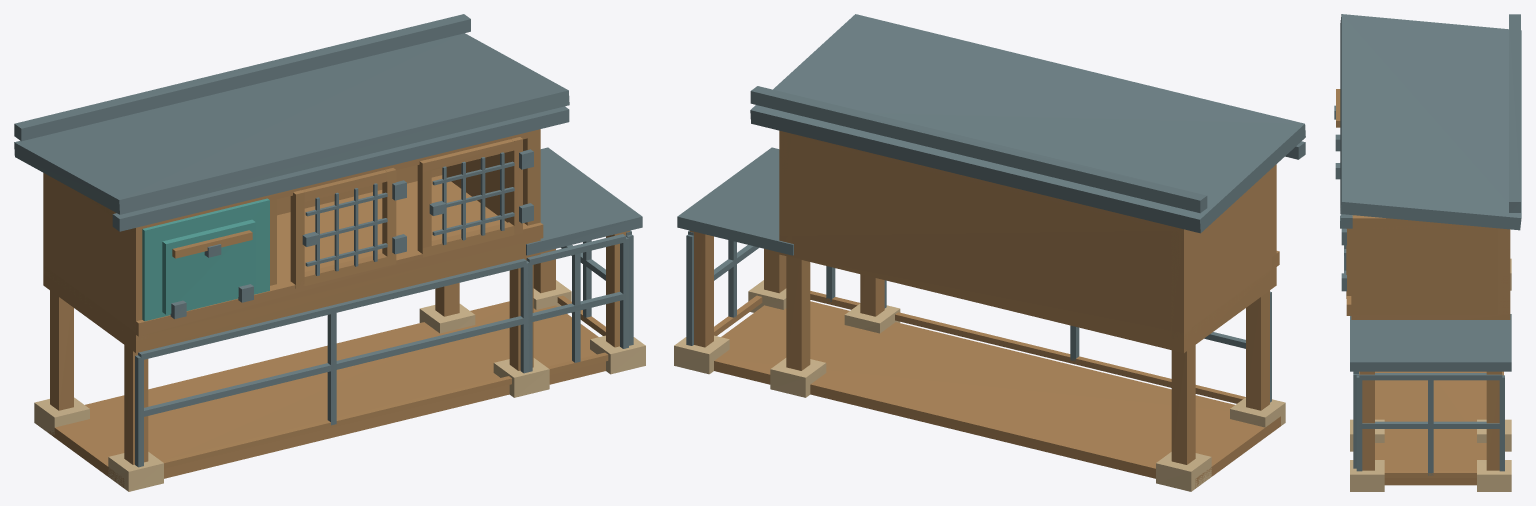
Rendered from Rabbit-Hutch.glb.
The picture shows the model from 3 angles, left to right: view 1: azimuth 30°, elevation 25°; view 2: azimuth 150°, elevation 25°; view 3: azimuth 270°, elevation 25°; orthographic projection. The views are drawn at different scales.
Visible parts, largest first — view 1: rabbit-hutch-static-rabbit-hutch-warm-timber, rabbit-hutch-static-rabbit-hutch-galvanized-shed-roof, rabbit-hutch-static-rabbit-hutch-dark-wire-mesh, rabbit-hutch-static-rabbit-hutch-shelter-panel, rabbit-hutch-static-rabbit-hutch-stone-feet; view 2: rabbit-hutch-static-rabbit-hutch-warm-timber, rabbit-hutch-static-rabbit-hutch-galvanized-shed-roof, rabbit-hutch-static-rabbit-hutch-dark-wire-mesh, rabbit-hutch-static-rabbit-hutch-stone-feet; view 3: rabbit-hutch-static-rabbit-hutch-galvanized-shed-roof, rabbit-hutch-static-rabbit-hutch-warm-timber, rabbit-hutch-static-rabbit-hutch-dark-wire-mesh, rabbit-hutch-static-rabbit-hutch-stone-feet.
Part boxes in pixels (bbox=[...]): rabbit-hutch-static-rabbit-hutch-warm-timber: bbox=[43, 129, 629, 488]; rabbit-hutch-static-rabbit-hutch-galvanized-shed-roof: bbox=[14, 33, 642, 255]; rabbit-hutch-static-rabbit-hutch-dark-wire-mesh: bbox=[14, 14, 633, 467]; rabbit-hutch-static-rabbit-hutch-shelter-panel: bbox=[142, 198, 269, 321]; rabbit-hutch-static-rabbit-hutch-stone-feet: bbox=[34, 280, 645, 491]; rabbit-hutch-static-rabbit-hutch-warm-timber: bbox=[690, 130, 1280, 488]; rabbit-hutch-static-rabbit-hutch-galvanized-shed-roof: bbox=[677, 14, 1305, 255]; rabbit-hutch-static-rabbit-hutch-dark-wire-mesh: bbox=[686, 86, 1305, 402]; rabbit-hutch-static-rabbit-hutch-stone-feet: bbox=[674, 280, 1285, 491]; rabbit-hutch-static-rabbit-hutch-galvanized-shed-roof: bbox=[1340, 14, 1521, 371]; rabbit-hutch-static-rabbit-hutch-warm-timber: bbox=[1336, 89, 1510, 485]; rabbit-hutch-static-rabbit-hutch-dark-wire-mesh: bbox=[1334, 14, 1520, 475]; rabbit-hutch-static-rabbit-hutch-stone-feet: bbox=[1350, 258, 1511, 491].
Size of the model in its own units: 3.31 by 1.78 by 1.18.
